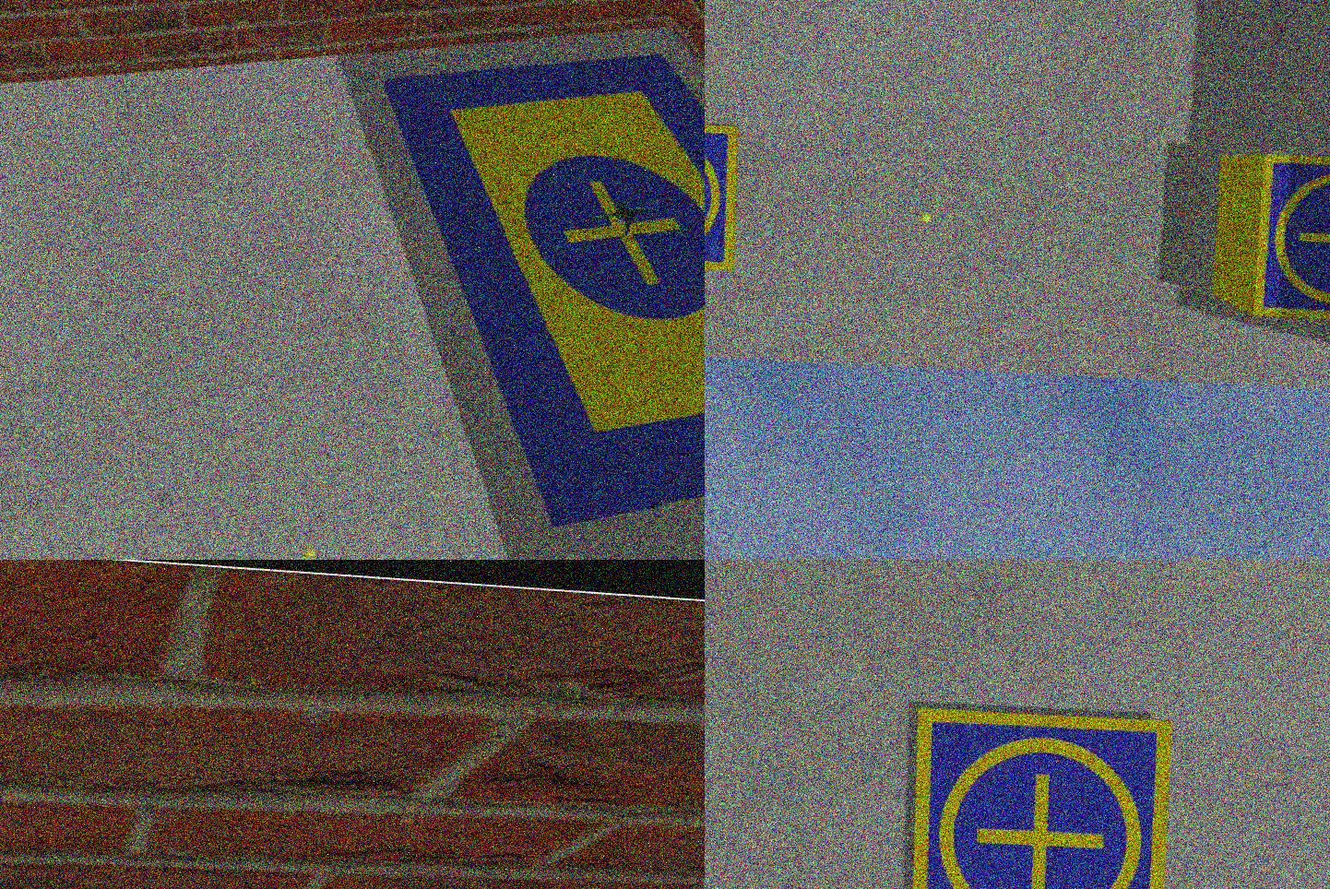large_base: (350, 32, 705, 553)
small_base: (900, 702, 1182, 889), (1250, 148, 1330, 332), (705, 115, 747, 277)
